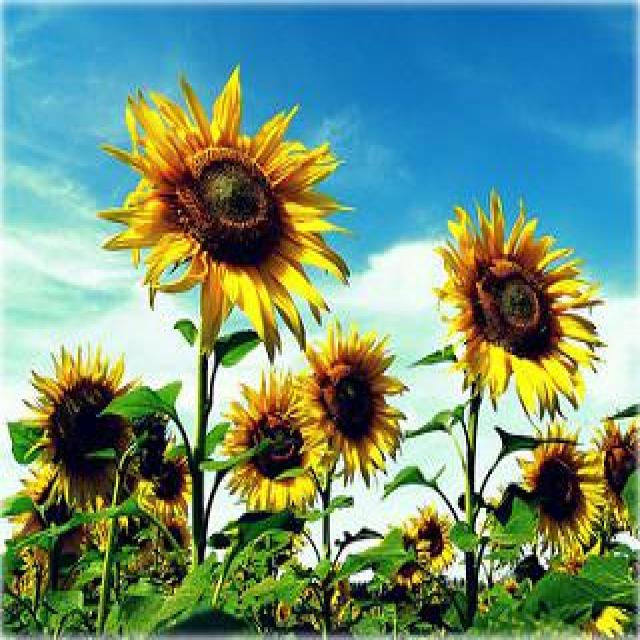sunflower: (99, 66, 353, 358), (433, 190, 606, 412), (24, 347, 142, 513), (221, 370, 334, 516), (302, 321, 409, 473), (522, 424, 606, 564), (12, 465, 85, 551), (597, 419, 640, 521), (140, 447, 196, 520), (407, 508, 455, 568), (162, 518, 189, 556), (394, 562, 423, 585)
